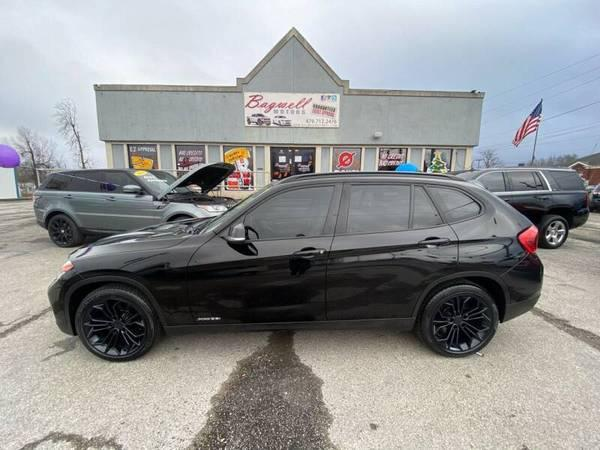Front_Bumper: (46, 269, 83, 335)
Front_Fender: (69, 234, 211, 332)
Front_Left_Door: (188, 234, 334, 330)
Front_Left_Window: (213, 182, 343, 236)
Hood: (68, 217, 206, 260)
Left_Taillight: (520, 223, 542, 255)
Rear_Bumper: (499, 253, 547, 324)
Rear_Fender: (422, 183, 533, 277)
Rear_Left_Door: (326, 224, 458, 327)
Rear_Left_Window: (337, 180, 451, 236)
Roof: (202, 171, 513, 234)
Wheel: (72, 285, 157, 363), (422, 284, 501, 358)
